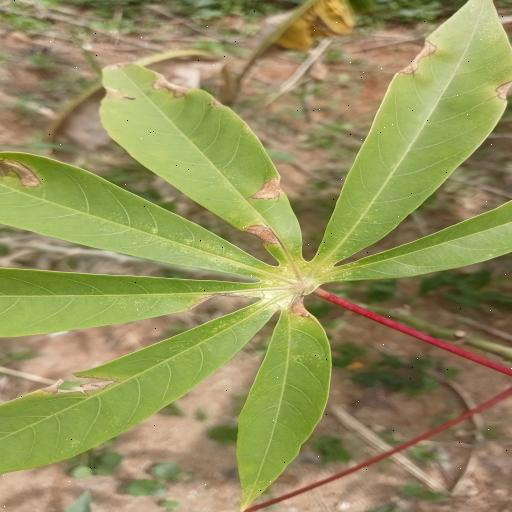Cassava_Root_Rot: (3, 4, 512, 478)
